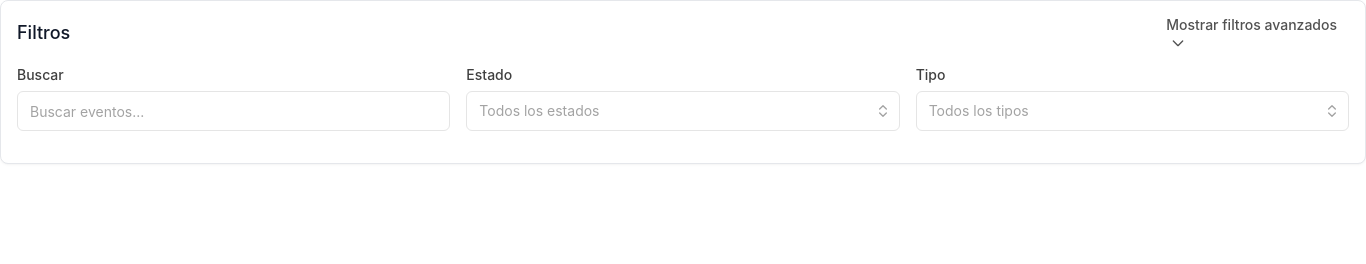
EventFiltersBar › advanced filters › should show advanced filters when toggle is clicked
The image size is (1366, 264).
Click the button "Mostrar filtros avanzados" at point(1252, 33), box [1154,17,1349,49]
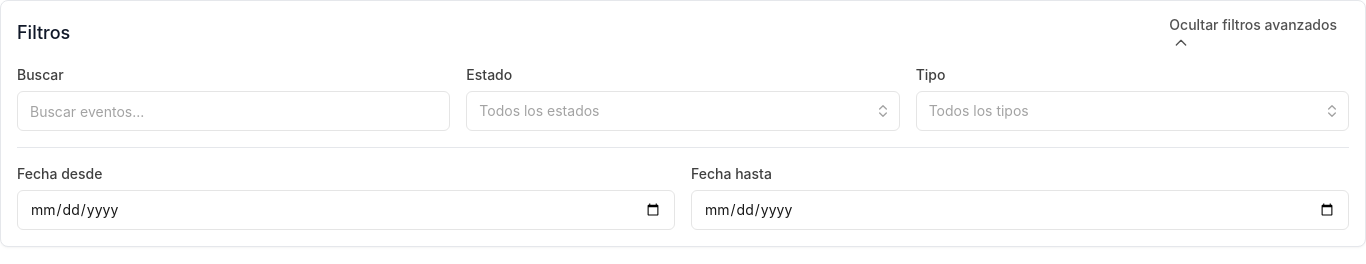
expect the date field labelled "Fecha desde" is shown: met, box [17,190,675,230]
expect the date field labelled "Fecha hasta" is shown: met, box [691,190,1349,230]
